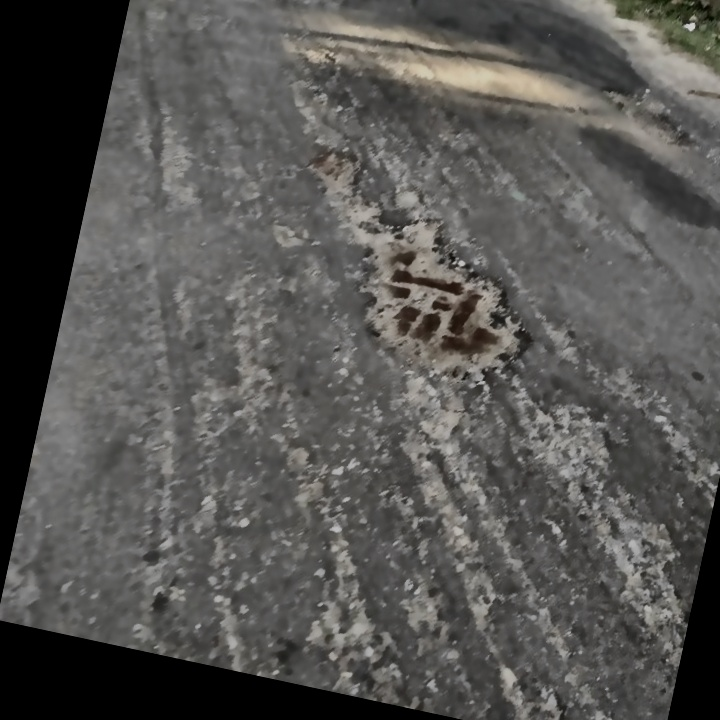pothole: (335, 202, 564, 405), (593, 80, 702, 150), (305, 141, 366, 205)
